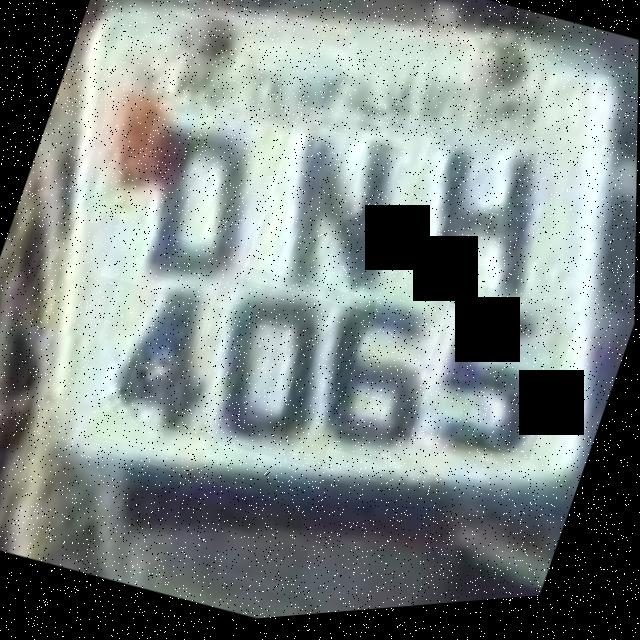0: (170, 255, 380, 485)
4: (68, 250, 266, 477)
5: (409, 280, 582, 477)
6: (276, 265, 484, 489)
H: (389, 113, 574, 333)
N: (239, 100, 433, 328)
O: (100, 87, 296, 323)
